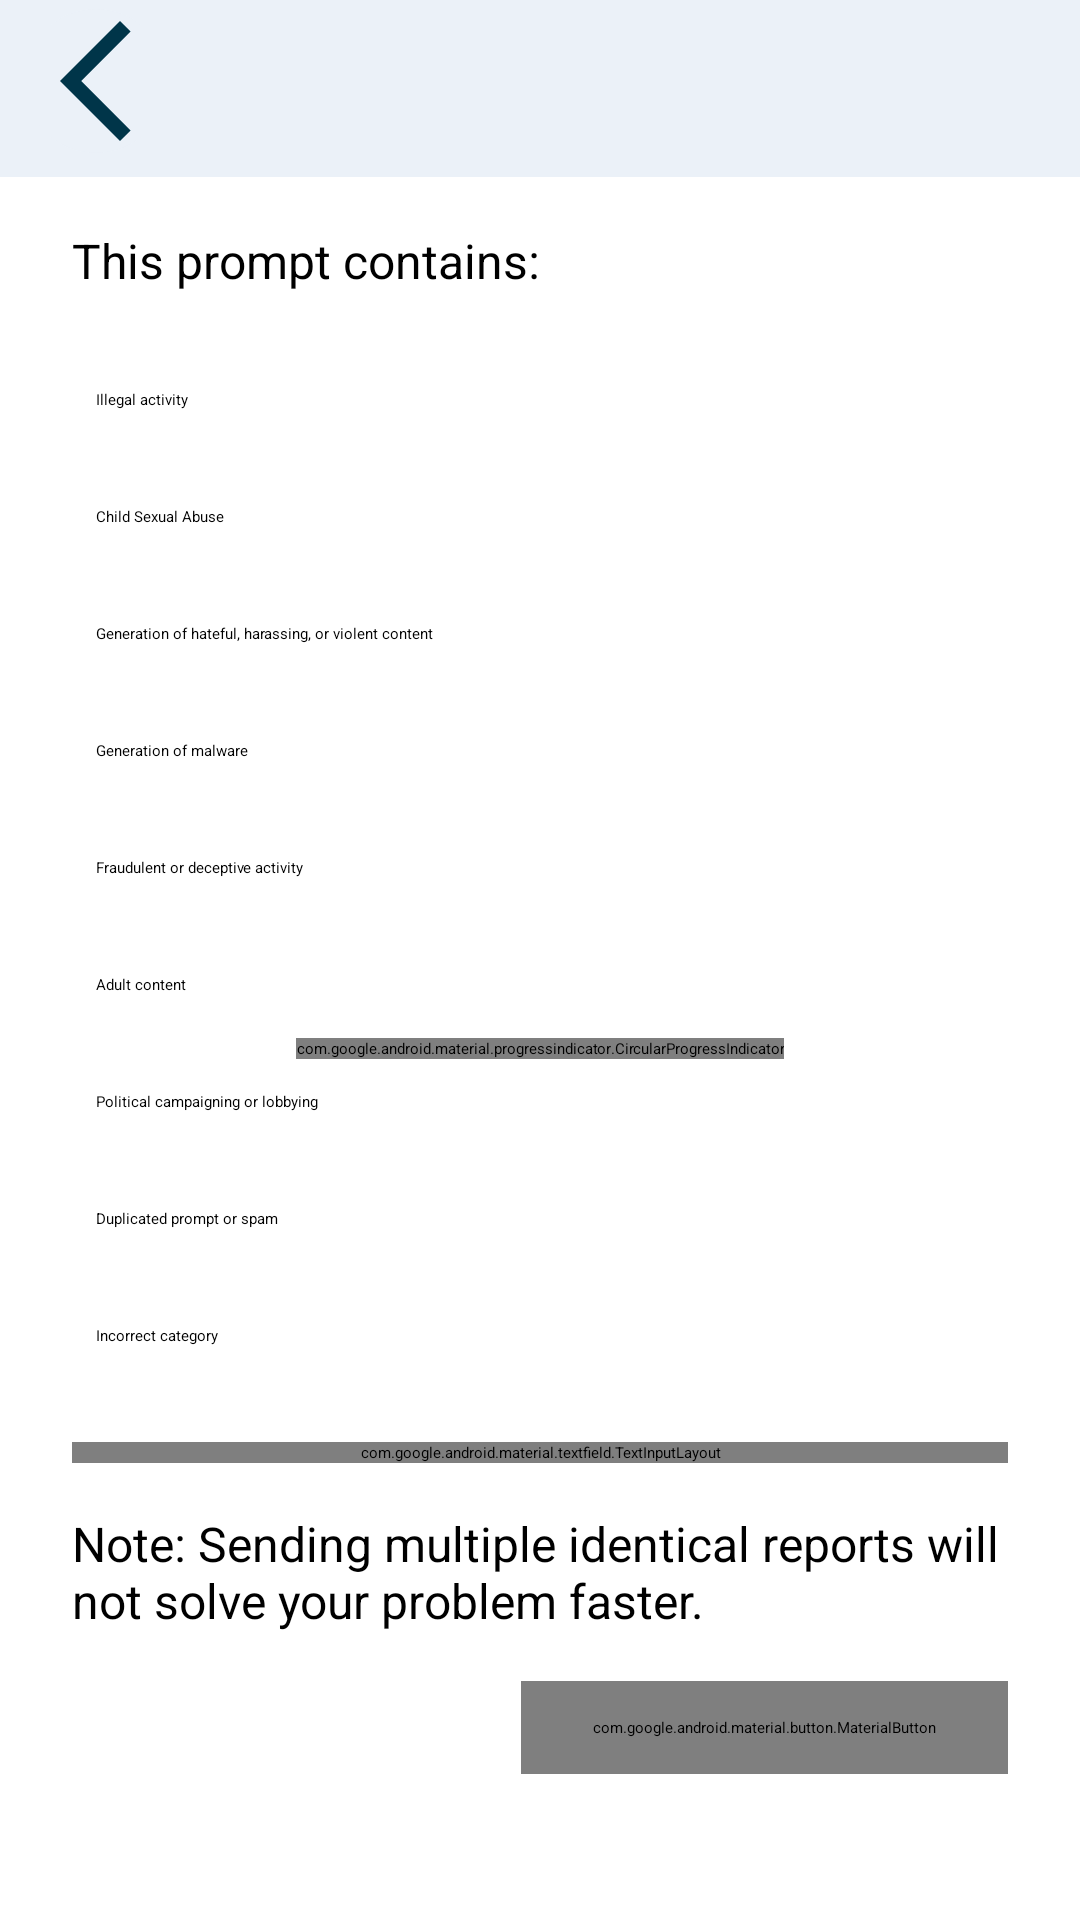

Point at icon controls on the screen. Image size 1080x1920, points as point (x, y).
Go back: point (95, 81)
